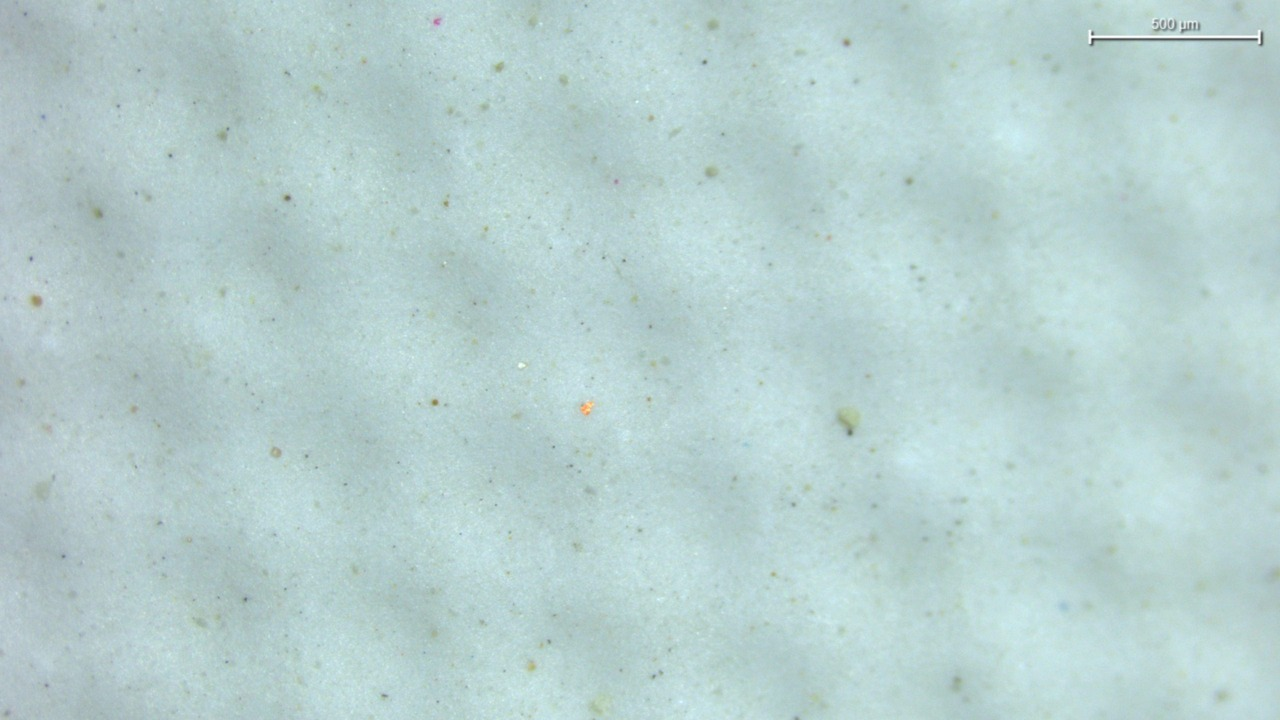microplastic_fragment: (580, 401, 595, 416)
